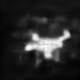plane: (23, 29, 72, 64)
